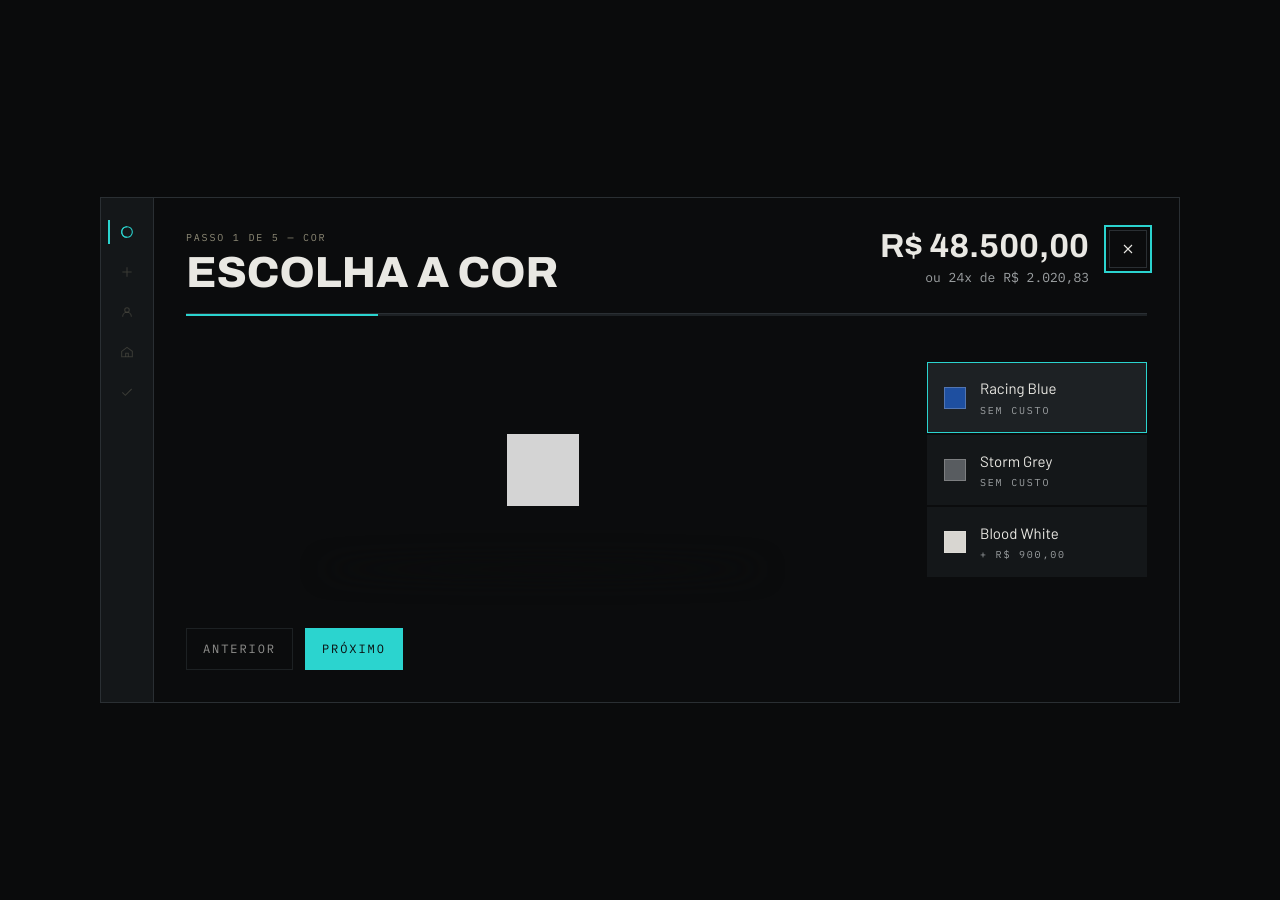
Configurator › exibe no painel o passo selecionado no indicador
Click the button "Próximo": [354, 649] box [305,628,403,670]
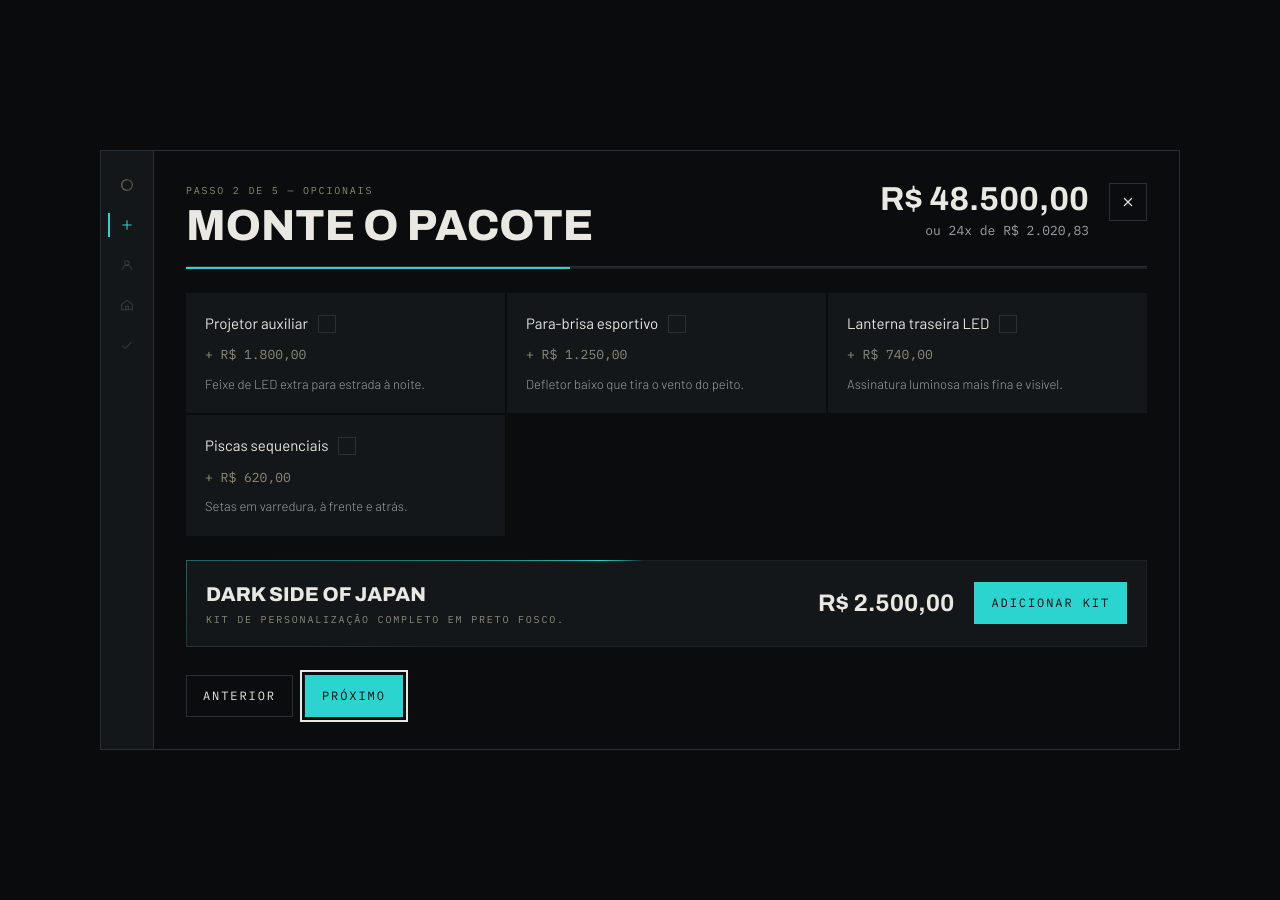
Expected: the element named "opcionais" is shown, [186,293,1147,536]
Click the 1st tab named "passo 1: cor": [127, 186] box [109,168,145,204]
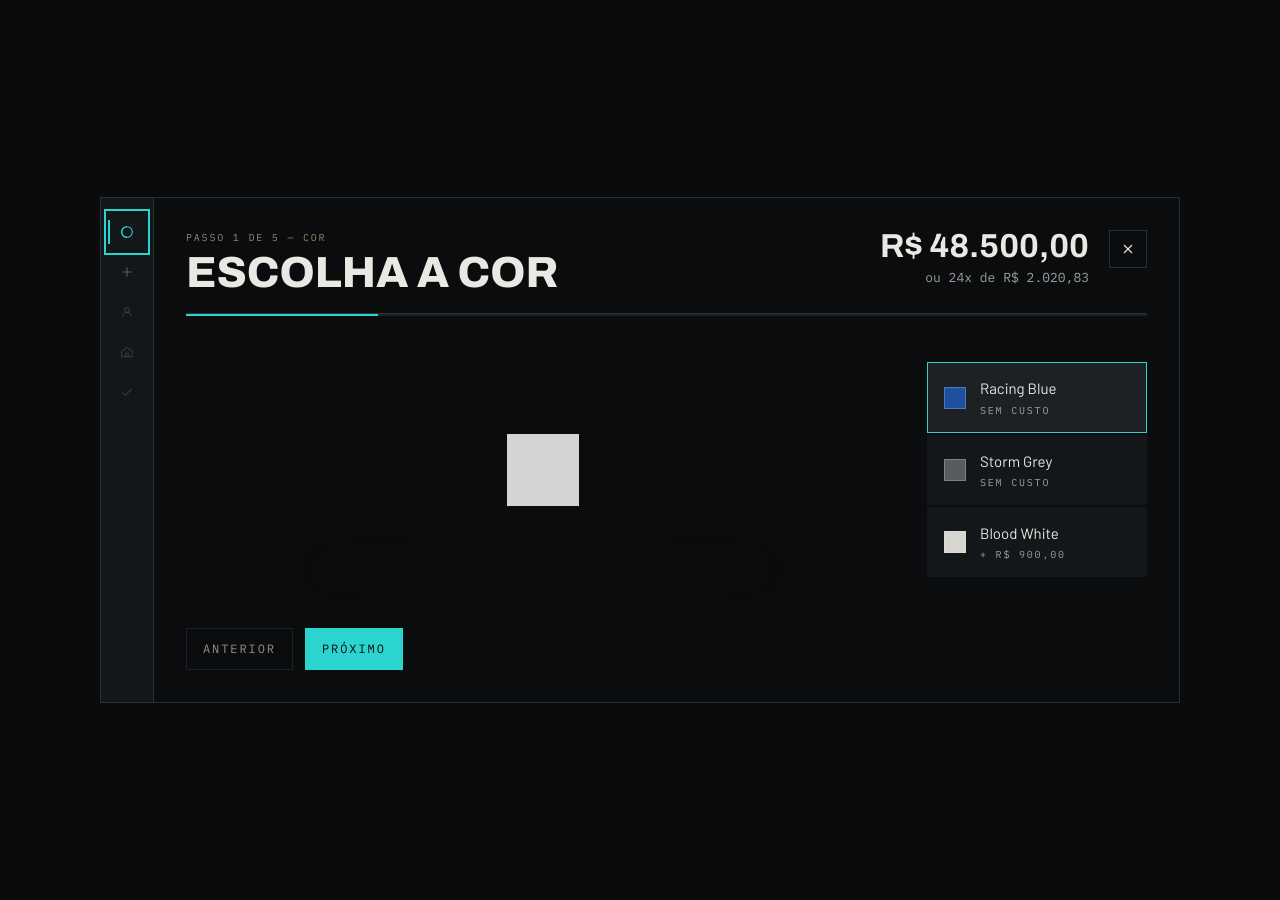
Expected: the element named "cores disponíveis" is shown, [927,362,1147,577]
